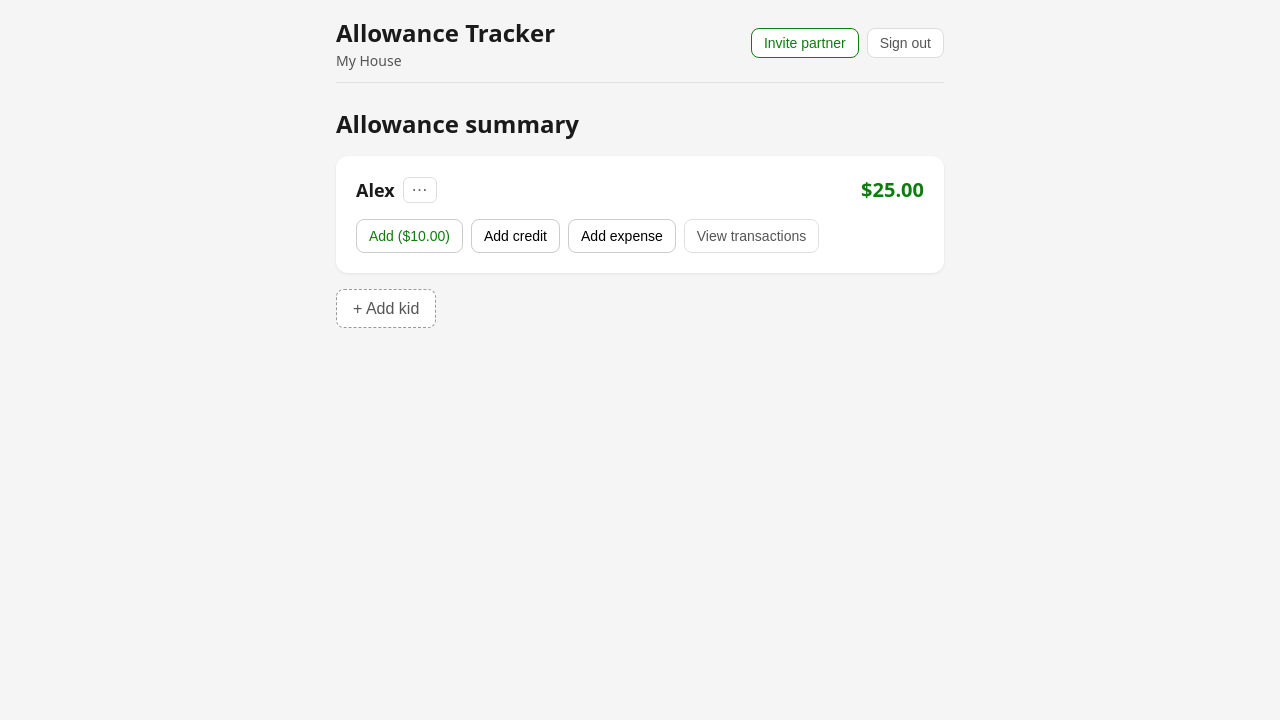
Test: App › opens InvitePartnerModal when Invite partner clicked
Click the button "Invite partner".
click(805, 43)  # box [751, 28, 859, 58]
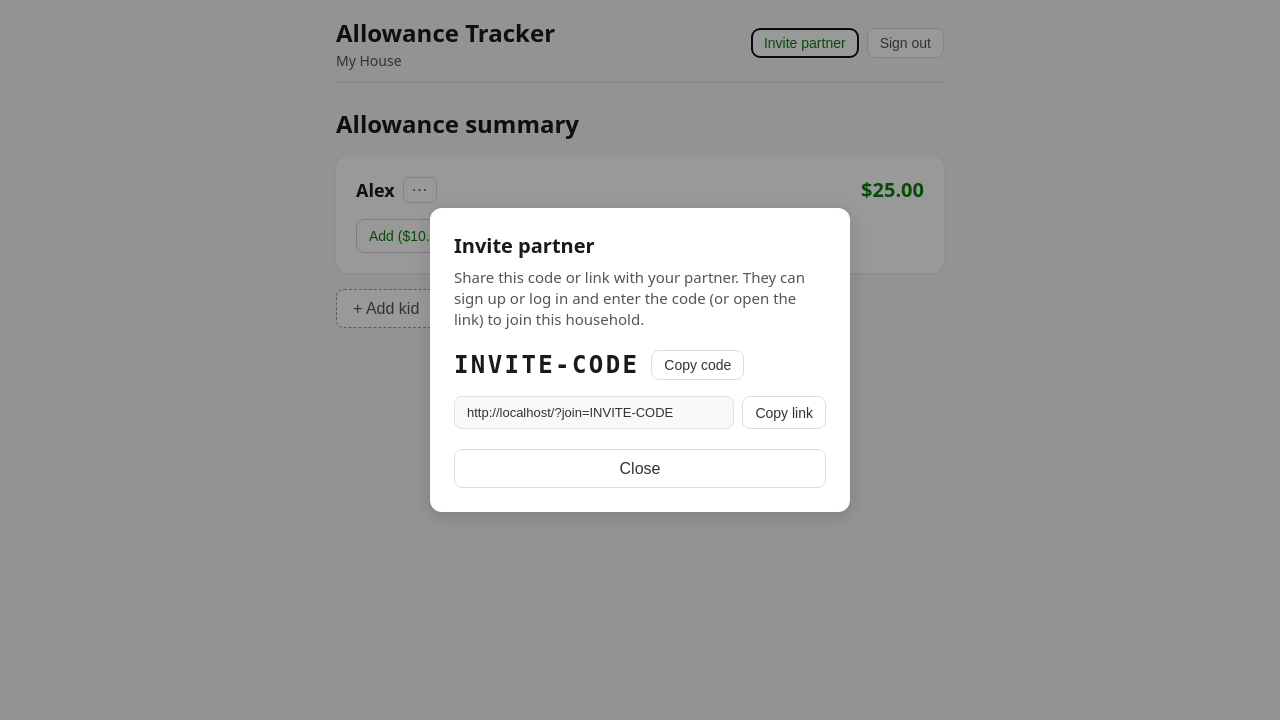
Check: the dialog is shown, box [430, 208, 850, 512]
